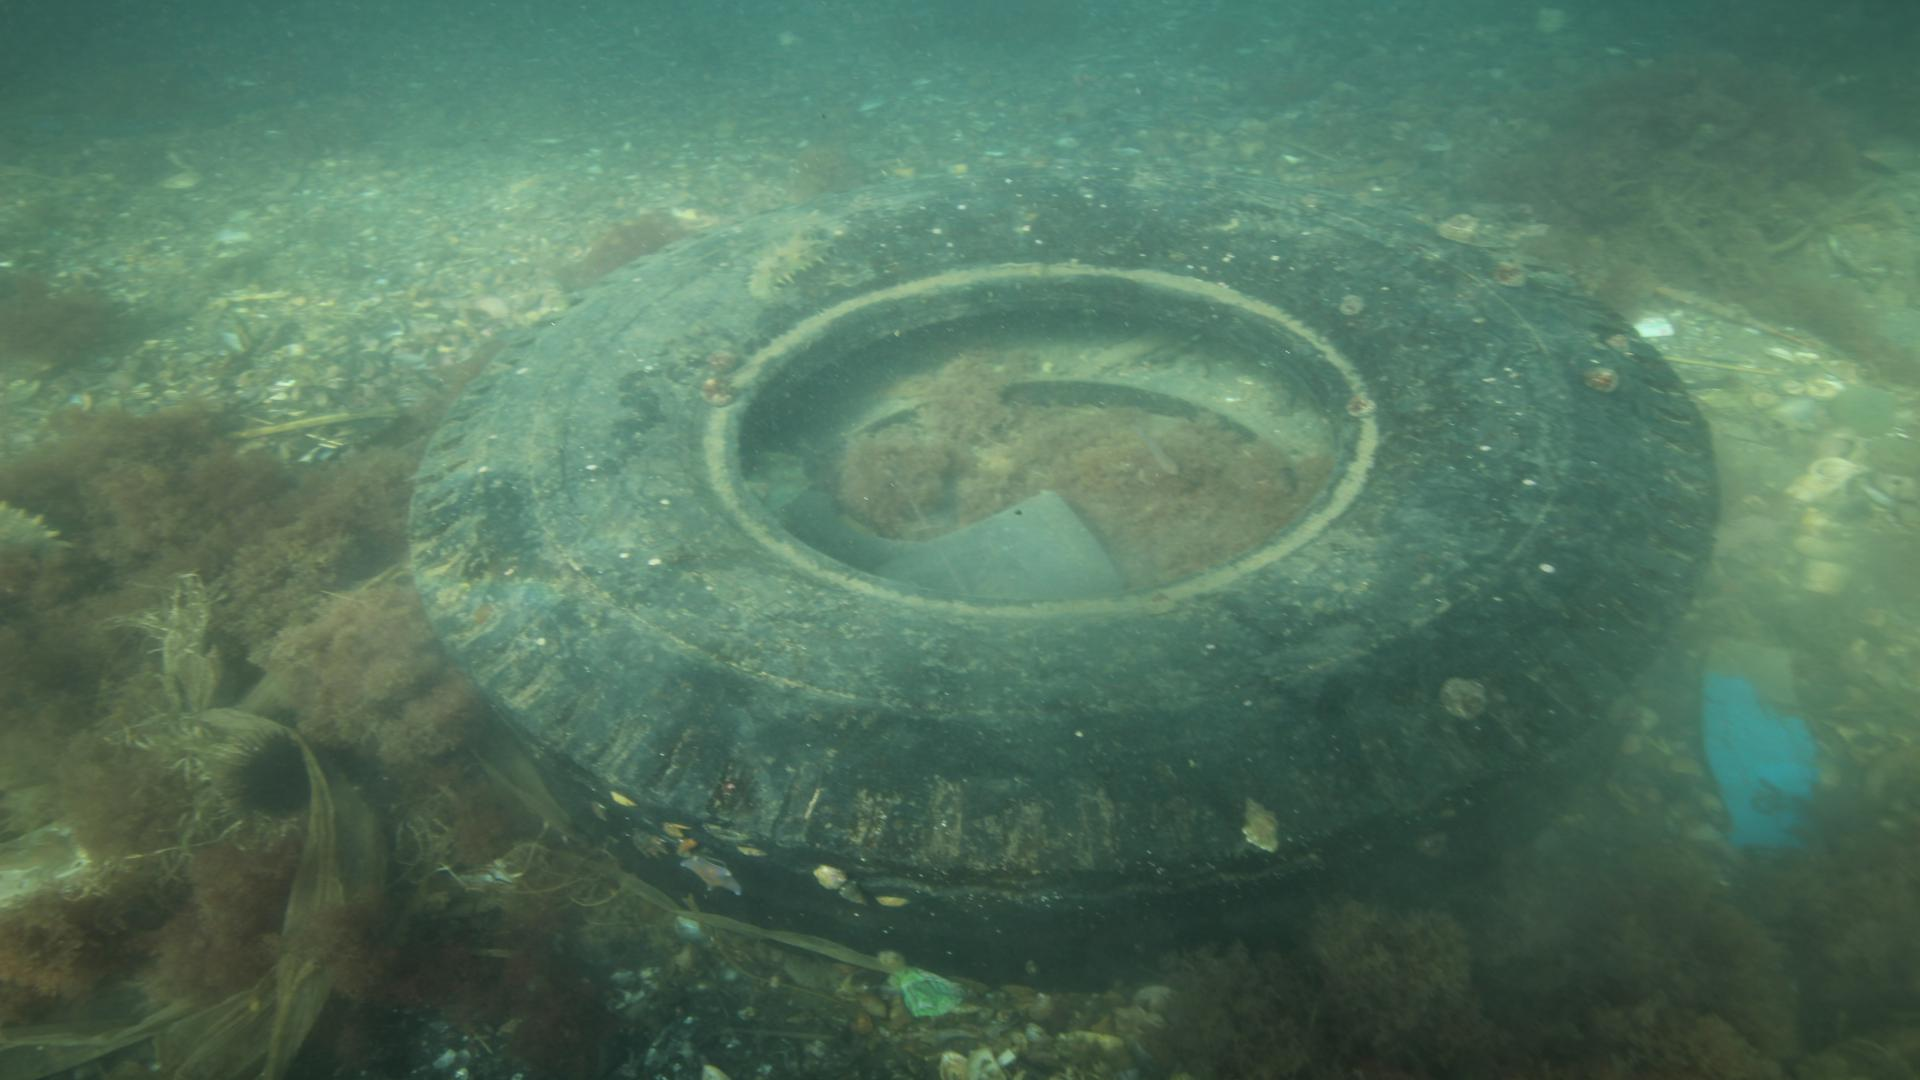tire: (404, 157, 1727, 985)
